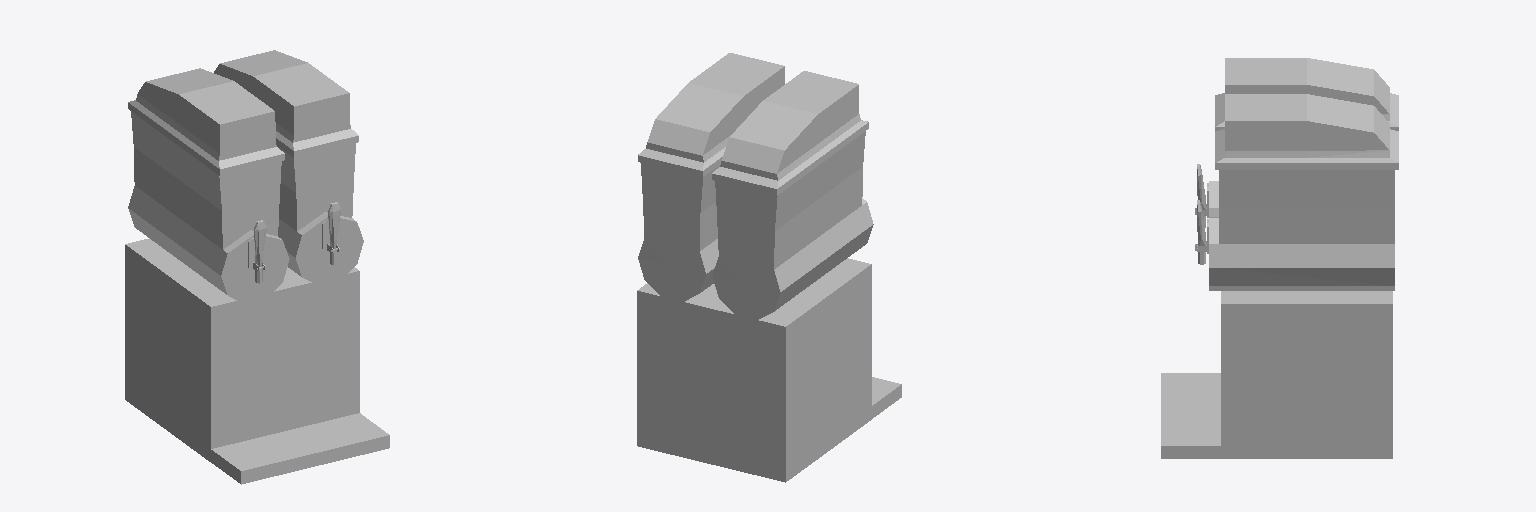
Rendered from slushiemachine.obj.
3 renders of one model, left to right at view 1: azimuth 30°, elevation 25°; view 2: azimuth 150°, elevation 25°; view 3: azimuth 270°, elevation 25°, orthographic.
Parts seen in each view (by area): view 1: pCube43, pCube59, pCube60, pCube48; view 2: pCube43, pCube59, pCube60, pCube48; view 3: pCube60, pCube43, pCube59, pCube48.
Part boxes in pixels (x1,y1,x2,y2): pCube43: (125, 238, 359, 461); pCube59: (128, 68, 289, 303); pCube60: (214, 50, 363, 285); pCube48: (210, 413, 389, 484); pCube43: (637, 258, 871, 482); pCube59: (712, 71, 873, 320); pCube60: (638, 53, 784, 302); pCube48: (871, 377, 901, 419); pCube60: (1195, 94, 1398, 290); pCube43: (1221, 291, 1392, 458); pCube59: (1195, 58, 1398, 227); pCube48: (1161, 373, 1223, 458).
Size of the model in its own units: 2 by 4.3 by 2.78.